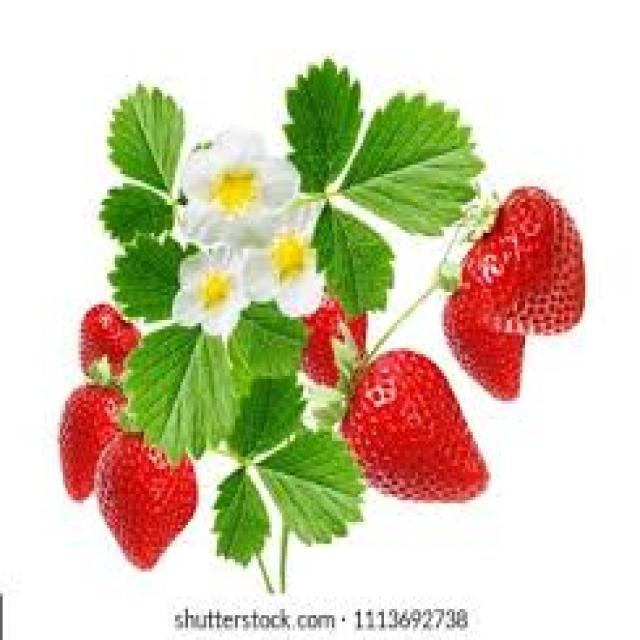strawberry: (331, 348, 494, 511), (452, 188, 600, 341), (89, 432, 200, 573)
